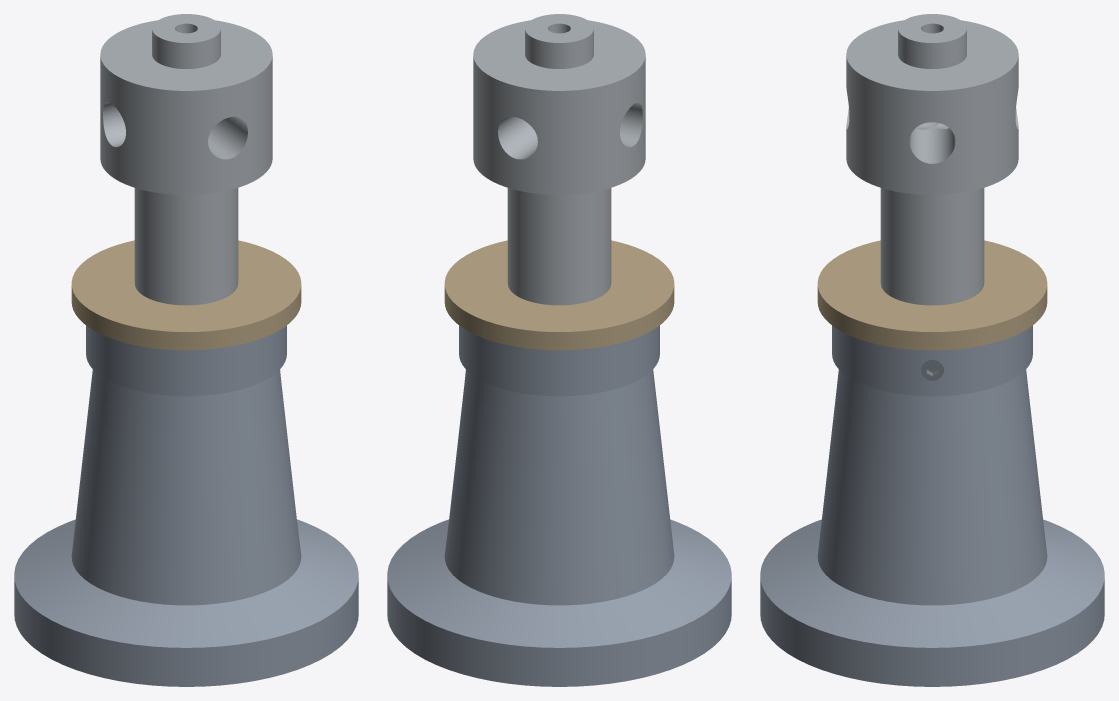
Rendered from step_16.glb.
3 renders of one model, left to right at view 1: azimuth 30°, elevation 25°; view 2: azimuth 150°, elevation 25°; view 3: azimuth 270°, elevation 25°, orthographic.
Parts seen in each view (by area): view 1: part__body, part__screw spindle, part__bronze bush; view 2: part__body, part__screw spindle, part__bronze bush; view 3: part__body, part__screw spindle, part__bronze bush.
Part boxes in pixels (x1=…): part__body: x1=14, y1=325, x2=358, y2=686; part__screw spindle: x1=100, y1=14, x2=272, y2=305; part__bronze bush: x1=71, y1=240, x2=301, y2=350; part__body: x1=387, y1=325, x2=731, y2=686; part__screw spindle: x1=473, y1=14, x2=645, y2=305; part__bronze bush: x1=444, y1=240, x2=674, y2=350; part__body: x1=760, y1=325, x2=1104, y2=686; part__screw spindle: x1=846, y1=14, x2=1018, y2=305; part__bronze bush: x1=817, y1=240, x2=1047, y2=350.
Bounding box in the file's own units: 120 × 225 × 120.
